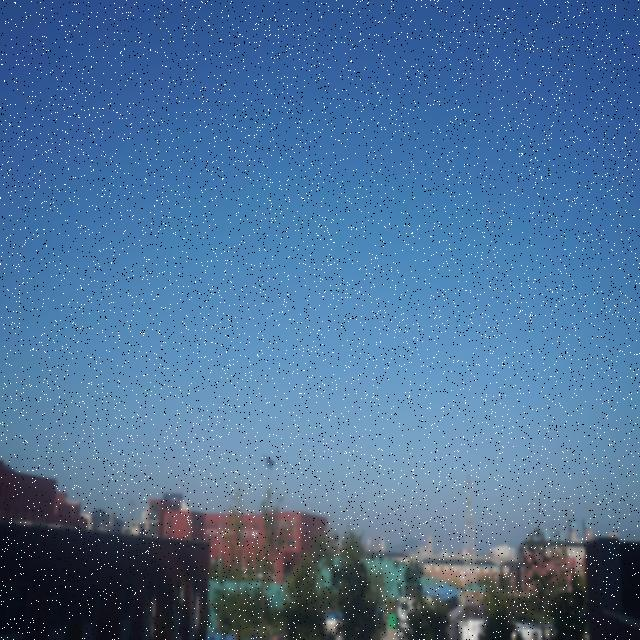UAV: (262, 455, 278, 469)
